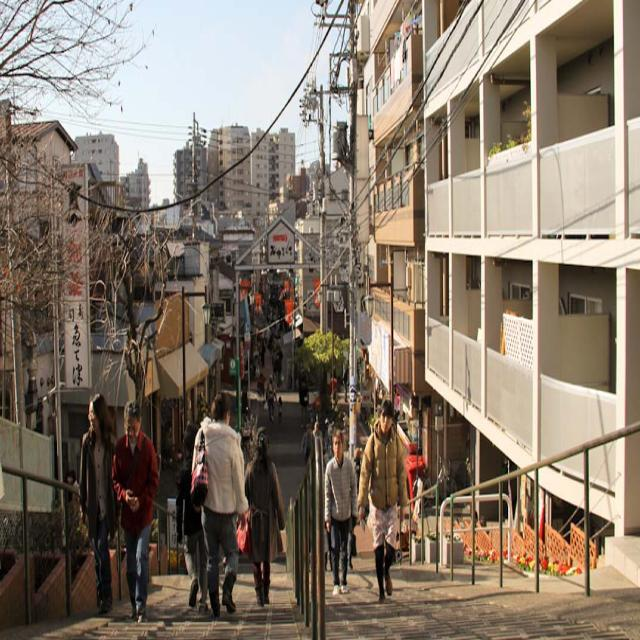body: (187, 386, 250, 623), (295, 360, 363, 576), (109, 398, 162, 626), (354, 395, 409, 607), (77, 390, 119, 618), (237, 275, 293, 429), (244, 425, 286, 607), (174, 418, 210, 614), (321, 425, 361, 598), (153, 414, 208, 488), (56, 465, 80, 549), (297, 373, 311, 431), (265, 376, 278, 425), (340, 357, 350, 403), (276, 395, 284, 424)
